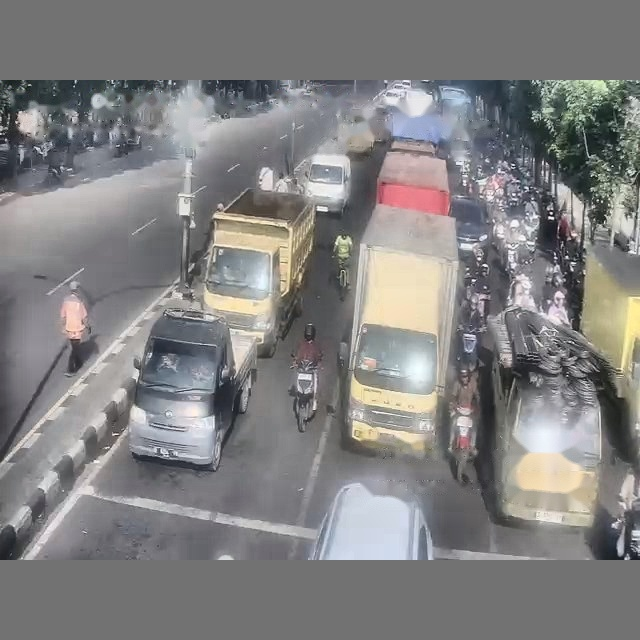Mobil: (310, 483, 433, 559), (450, 196, 491, 256), (382, 89, 403, 106)
Motor: (291, 360, 317, 432), (451, 406, 475, 483), (617, 501, 639, 559)
Truk: (339, 205, 458, 456), (128, 301, 256, 470), (201, 189, 315, 356), (580, 244, 639, 445), (377, 151, 450, 215)
